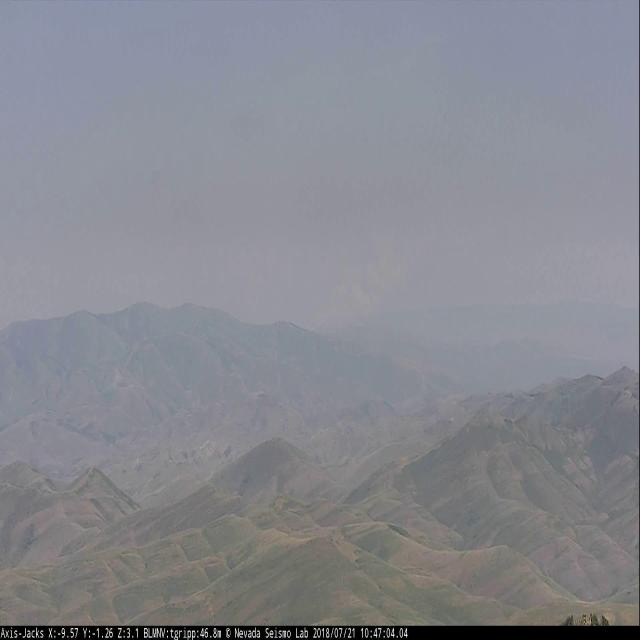smoke: (306, 230, 418, 341)
